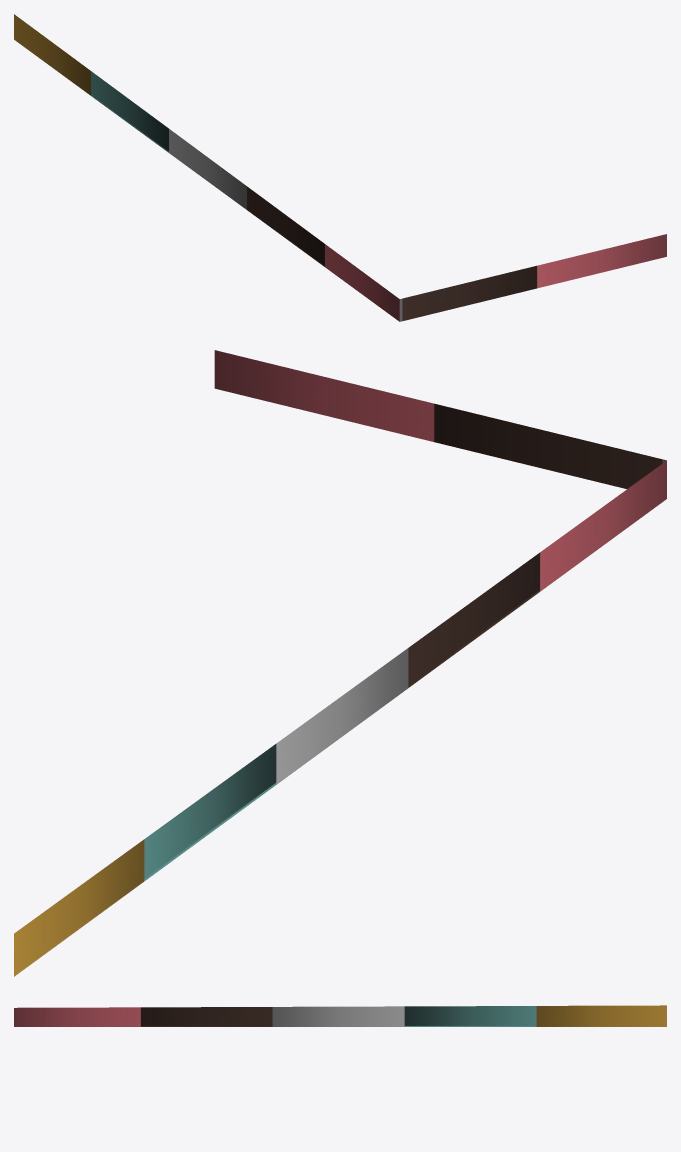
The model's file is SM_PlatformCorner.fbx.
The picture shows the model from 3 angles, top to bottom: view 1: azimuth 30°, elevation 25°; view 2: azimuth 150°, elevation 25°; view 3: azimuth 270°, elevation 25°; orthographic projection. The views are drawn at different scales.
Parts seen in each view (by area): view 1: SM_PlatformCorner; view 2: SM_PlatformCorner; view 3: SM_PlatformCorner.
Part boxes in pixels (x1=…): SM_PlatformCorner: x1=14, y1=14, x2=666, y2=321; SM_PlatformCorner: x1=14, y1=350, x2=666, y2=976; SM_PlatformCorner: x1=14, y1=1005, x2=666, y2=1026.
Size of the model in its own units: 400 by 36.6 by 1000.
